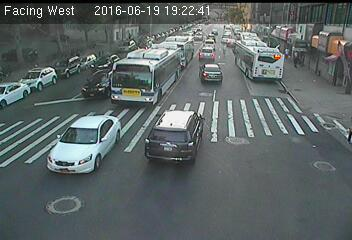neg: (17, 60, 33, 81), (139, 31, 152, 48), (49, 31, 57, 41), (109, 29, 117, 39)
pos: (288, 48, 304, 68), (72, 48, 84, 64), (284, 47, 293, 59)
